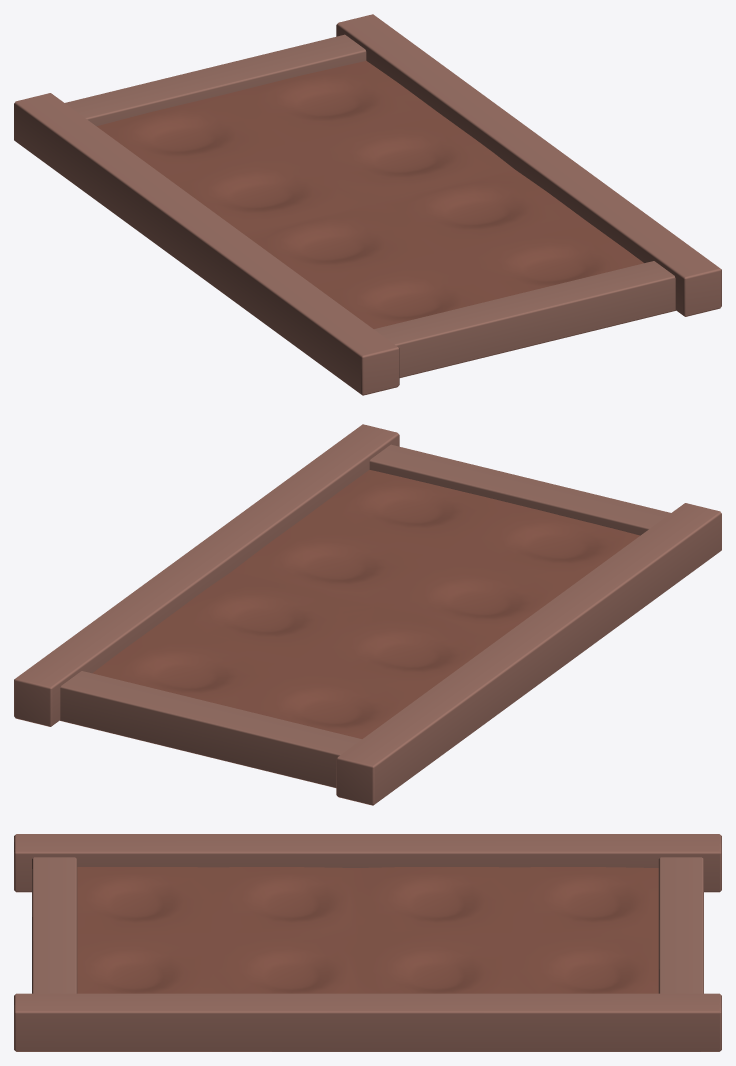
File: Farm_11_Garden_1.glb
3 views of the same model, one above another, from view 1: azimuth 30°, elevation 25°; view 2: azimuth 150°, elevation 25°; view 3: azimuth 270°, elevation 25° (orthographic).
Visible parts, largest first — view 1: Farm_11_Garden_1; view 2: Farm_11_Garden_1; view 3: Farm_11_Garden_1.
Part boxes in pixels (x1=…): Farm_11_Garden_1: x1=14, y1=14, x2=721, y2=395; Farm_11_Garden_1: x1=14, y1=424, x2=721, y2=805; Farm_11_Garden_1: x1=14, y1=834, x2=721, y2=1051.
Bounding box in the file's own units: 3.6 × 0.3854 × 6.03.
1 material, 1 textured.
